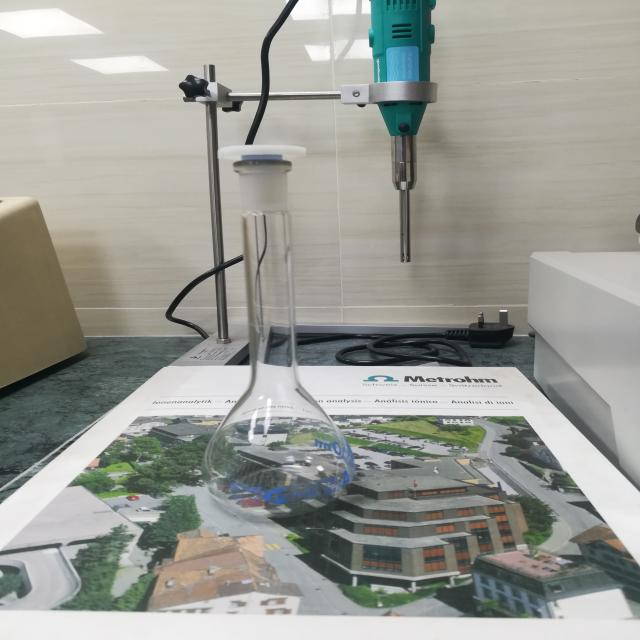Volumetric_Flask: (164, 110, 411, 531)
